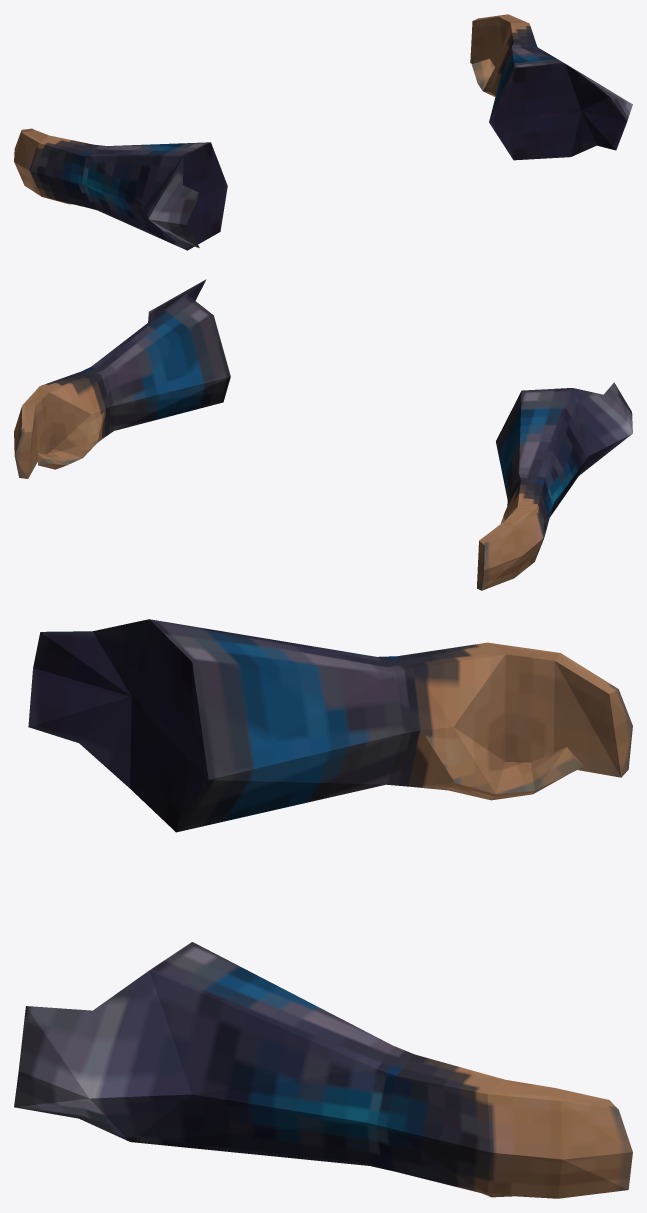
File: archer_glove_male_69010.obj
3 renders of one model, top to bottom at view 1: azimuth 30°, elevation 25°; view 2: azimuth 150°, elevation 25°; view 3: azimuth 270°, elevation 25°, orthographic. The views are drawn at different scales.
Visible parts, largest first — view 1: archer_glove_male_69010; view 2: archer_glove_male_69010; view 3: archer_glove_male_69010.
Boxes of the visible parts, left/top/right/bottom form: archer_glove_male_69010: left=14, top=14, right=632, bottom=250; archer_glove_male_69010: left=14, top=279, right=632, bottom=590; archer_glove_male_69010: left=14, top=619, right=632, bottom=1198.
Bounding box in the file's own units: 44.35 × 9.04 × 24.85.
Materials: 1 (1 with a texture image).
